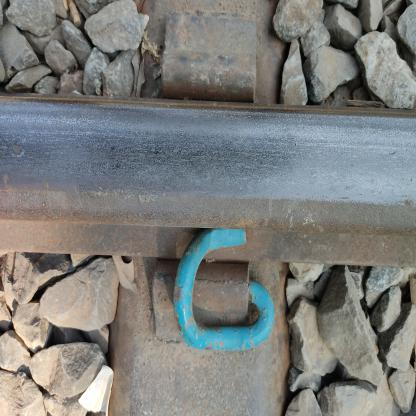Defective 1: (176, 268, 304, 384)
Non Defective 1: (148, 17, 298, 178)
